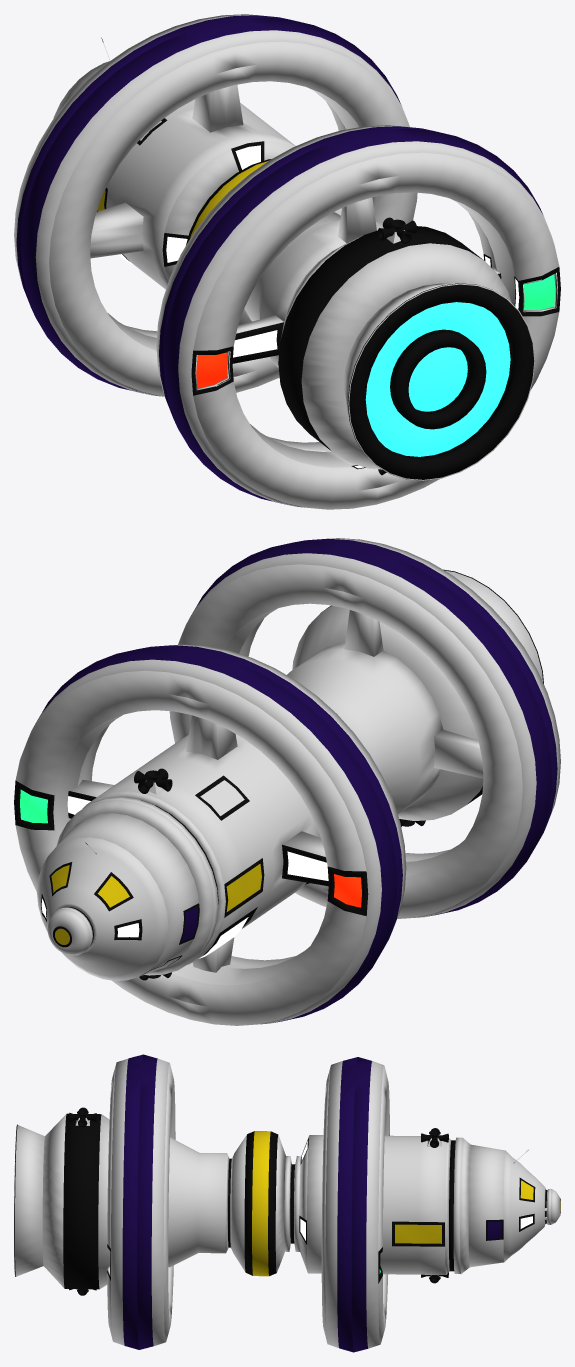
Rendered from alcubierre_concept.glb.
3 renders of one model, top to bottom at view 1: azimuth 30°, elevation 25°; view 2: azimuth 150°, elevation 25°; view 3: azimuth 270°, elevation 25°, orthographic. The views are drawn at different scales.
Parts seen in each view (by area): view 1: Core; view 2: Core; view 3: Core.
Boxes of the visible parts, bbox=[...] form: Core: bbox=[14, 14, 560, 509]; Core: bbox=[14, 538, 560, 1025]; Core: bbox=[14, 1054, 560, 1352].
Size of the model in its own units: 7.12 by 6.38 by 12.
